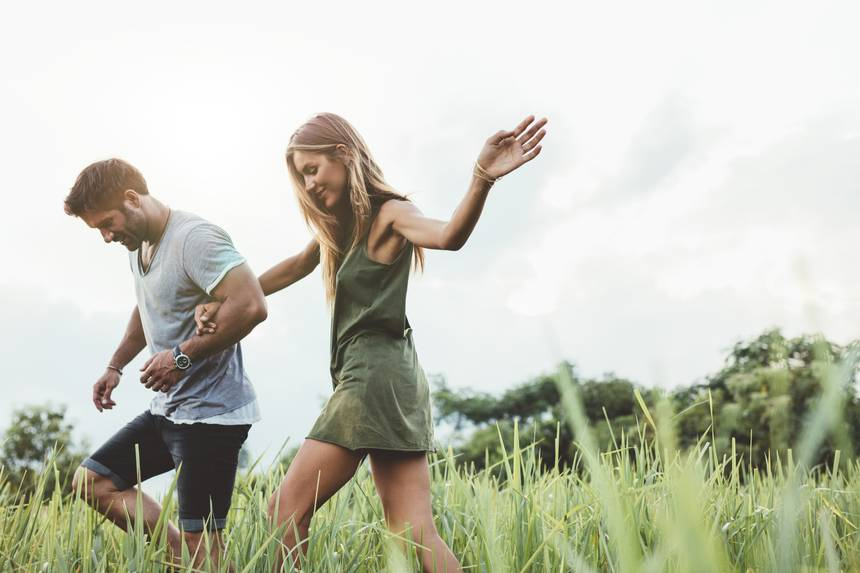Person: (257, 110, 560, 573), (57, 156, 271, 573)
